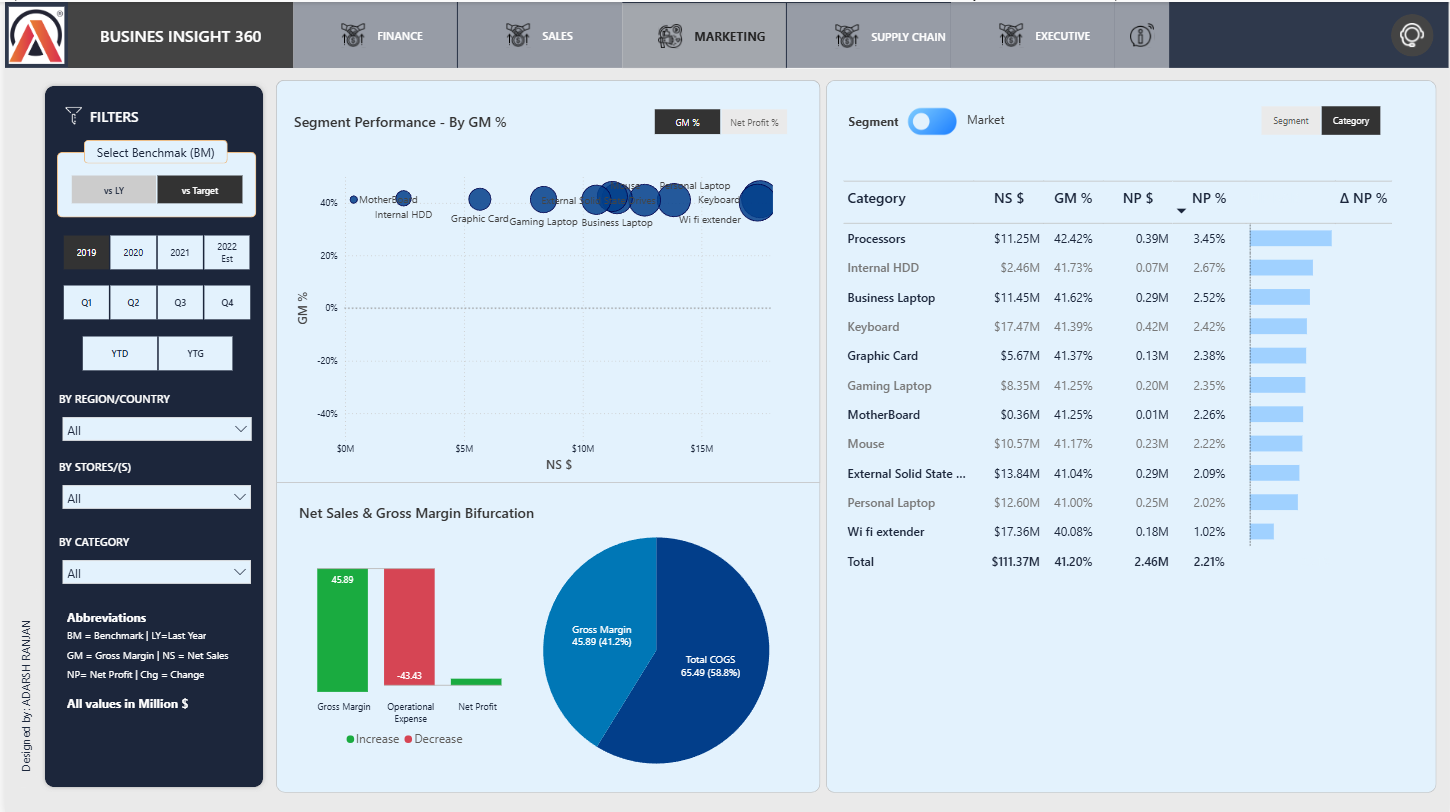

The dashboard page shown, as its layout file describes it:
{"tool":"powerbi","page":{"name":" Marketing View ","canvas":[1920,1080],"ordinal":3},"visuals":[{"type":"shape","box":[360,104.1,724,948],"z":0},{"type":"slicer","title":"Slicer - PARAM MARKT 03","fields":{"Values":["Param MRKT 03: Segment View List.Param MRKT 03: Segment View List"]},"box":[1646,132,208,52],"z":0,"group":"g2"},{"type":"shape","box":[68.9,199.7,265.1,87.1],"z":0,"group":"g4"},{"type":"group","id":"g1","title":"Group 3","box":[82.9,830.3,265.1,74.2],"z":0,"group":"g5"},{"type":"shape","box":[83.2,830.3,263.3,24],"z":0,"group":"g1"},{"type":"shape","box":[1092,104,812,948.3],"z":1000},{"type":"shape","box":[46.6,105.1,303.3,945.7],"z":1000,"group":"g3"},{"type":"slicer","fields":{"Values":["Set BM.Benchmarks"]},"box":[68.2,229.2,266.5,41.4],"z":1000,"group":"g4"},{"type":"shape","box":[82.9,801.8,236.9,33.7],"z":1000,"group":"g5"},{"type":"shape","box":[82.9,856.6,263.6,22.8],"z":1000,"group":"g1"},{"type":"shape","box":[360,104,724,536],"z":2000},{"type":"shape","title":"LBL_Segment Perform","box":[384.9,132.5,396.4,50],"z":2000,"group":"g2"},{"type":"shape","box":[106,184,191,31.4],"z":2000,"group":"g4"},{"type":"slicer","fields":{"Values":["fiscal_year.fy_desc"]},"box":[57,308.9,287.3,48.5],"z":2000,"group":"g3"},{"type":"shape","box":[82.9,881.7,265.1,22.8],"z":2000,"group":"g1"},{"type":"scatterChart","fields":{"Y":["Key Measures.GM %"],"Category":["dim_product.category"],"Size":["Key Measures.NS $"],"X":["Key Measures.NS $"]},"box":[368.8,218.6,688.8,412],"z":3000,"group":"g2"},{"type":"pieChart","fields":{"Category":["P & L Rows.Description"],"Y":["Divide(Key Measures.P & L values, ScopedEval(Key Measures.P & L values, []))"]},"box":[561,660.3,609.8,405.7],"z":3000},{"type":"shape","box":[82.4,916,237.4,32],"z":3000,"group":"g3"},{"type":"pivotTable","fields":{"Rows":["dim_product.category"],"Values":["Key Measures.NS $","Key Measures.GM %","Key Measures.Net Profit $","Key Measures.Net Profit %","Key Measures.Net Profit % BAR","Key Measures.Δ NP %"]},"box":[1110.7,232.6,748.7,814.9],"z":4000,"group":"g2"},{"type":"shape","title":"Lbl All - selected","box":[1118,124,76,68],"z":5000,"group":"g2"},{"type":"slicer","fields":{"Values":["PARAM MRKT 01: Performance Matrix Y Axis.PARAM MRKT 01: Performance Matrix Y Axis"]},"box":[843.2,135.9,216,47.4],"z":5000},{"type":"slicer","fields":{"Values":["dim_date.quarters"]},"box":[57,375.7,287.9,48.5],"z":5000,"group":"g3"},{"type":"shape","title":"Lbl TopN Normal","box":[1279.7,122.5,60.5,67.9],"z":6000,"group":"g2"},{"type":"waterfallChart","fields":{"Category":["P & L Rows.Description"],"Y":["Key Measures.P & L values"]},"box":[361.3,724.8,342.9,275.7],"z":6000},{"type":"slicer","fields":{"Values":["dim_date.ytd_ytg"]},"box":[82.6,442.6,239.4,48.5],"z":7000,"group":"g3"},{"type":"shape","box":[391.4,652.2,330.6,55.3],"z":7000},{"type":"group","id":"g2","title":"Segment View","box":[368.8,122.5,1490.6,925],"z":9000},{"type":"slicer","title":"BY REGION/COUNTRY","fields":{"Values":["dim_market.region","dim_market.market"]},"box":[72.1,517.5,266,91],"z":9000,"group":"g3"},{"type":"slicer","title":"BY CATEGORY","fields":{"Values":["dim_product.segment"]},"box":[72.1,707.3,264.9,91],"z":11000,"group":"g3"},{"type":"group","id":"g3","title":"Group 6","box":[46.6,105.1,303.3,945.7],"z":12000},{"type":"shape","box":[0,0,1920,87.7],"z":13000},{"type":"slicer","title":"BY STORES/(S)","fields":{"Values":["dim_customer.customer"]},"box":[72.1,607.4,264.9,99.9],"z":13000,"group":"g3"},{"type":"actionButton","box":[602.3,0,218.6,88],"z":14000},{"type":"actionButton","box":[820.6,1.4,218.4,87.7],"z":15000},{"type":"shape","box":[113.4,125.2,70.9,52.6],"z":15000,"group":"g3"},{"type":"actionButton","box":[1040.1,1.3,218.1,87.8],"z":16000},{"type":"actionButton","box":[1258.2,0,218.1,87.8],"z":17000},{"type":"group","id":"g4","title":"Group 1","box":[68.2,184,266.5,102.7],"z":17000,"group":"g3"},{"type":"shape","box":[83.2,0,300,87.6],"z":18000},{"type":"actionButton","box":[383.7,0,218.4,87.7],"z":19000},{"type":"image","box":[71.3,131.8,39.4,39.5],"z":19000,"group":"g3"},{"type":"actionButton","box":[1476.4,0,72.4,88.2],"z":20000},{"type":"actionButton","title":"AB Signature","box":[8.6,768.9,34.5,275.9],"z":21000},{"type":"actionButton","title":"Support Button","box":[1844,16,56.6,56.6],"z":22000},{"type":"image","box":[0,1.3,83.8,86.5],"z":23000},{"type":"image","box":[1193.9,118.1,78.2,81.2],"z":24000},{"type":"group","id":"g5","title":"Group 5","box":[82.9,801.8,265.1,102.7],"z":37002,"group":"g3"}]}

Visuals, with their boxes in screenshot pixels (x1, y1, x2, y2), scaled from the page's 1920x1080 canvas onto the 1450x812 screenshot:
shape: detection(272, 78, 819, 791)
"Slicer - PARAM MARKT 03" slicer: detection(1243, 99, 1400, 138)
shape: detection(52, 150, 252, 216)
"Group 3" group: detection(63, 624, 263, 680)
shape: detection(63, 624, 262, 642)
shape: detection(825, 78, 1438, 791)
shape: detection(35, 79, 264, 790)
slicer - Set BM.Benchmarks: detection(52, 172, 253, 203)
shape: detection(63, 603, 242, 628)
shape: detection(63, 644, 262, 661)
shape: detection(272, 78, 819, 481)
"LBL_Segment Perform" shape: detection(291, 100, 590, 137)
shape: detection(80, 138, 224, 162)
slicer - fiscal_year.fy_desc: detection(43, 232, 260, 269)
shape: detection(63, 663, 263, 680)
scatterChart - Key Measures.GM % x dim_product.category: detection(279, 164, 799, 474)
pieChart - P & L Rows.Description x Divide(Key Measures.P & L values, ScopedEval(Key Measures.P & L values, [])): detection(424, 496, 884, 801)
shape: detection(62, 689, 242, 713)
pivotTable - dim_product.category x Key Measures.NS $: detection(839, 175, 1404, 788)
"Lbl All - selected" shape: detection(844, 93, 902, 144)
slicer - PARAM MRKT 01: Performance Matrix Y Axis.PARAM MRKT 01: Performance Matrix Y Axis: detection(637, 102, 800, 138)
slicer - dim_date.quarters: detection(43, 282, 260, 319)
"Lbl TopN Normal" shape: detection(966, 92, 1012, 143)
waterfallChart - P & L Rows.Description x Key Measures.P & L values: detection(273, 545, 532, 752)
slicer - dim_date.ytd_ytg: detection(62, 333, 243, 369)
shape: detection(296, 490, 545, 532)
"Segment View" group: detection(279, 92, 1404, 788)
"BY REGION/COUNTRY" slicer: detection(54, 389, 255, 458)
"BY CATEGORY" slicer: detection(54, 532, 255, 600)
"Group 6" group: detection(35, 79, 264, 790)
shape: detection(0, 0, 1449, 66)
"BY STORES/(S)" slicer: detection(54, 457, 255, 532)
actionButton: detection(455, 0, 620, 66)
actionButton: detection(620, 1, 785, 67)
shape: detection(86, 94, 139, 134)
actionButton: detection(785, 1, 950, 67)
actionButton: detection(950, 0, 1115, 66)
"Group 1" group: detection(52, 138, 253, 216)
shape: detection(63, 0, 289, 66)
actionButton: detection(290, 0, 455, 66)
image: detection(54, 99, 84, 129)
actionButton: detection(1115, 0, 1170, 66)
"AB Signature" actionButton: detection(6, 578, 33, 786)
"Support Button" actionButton: detection(1393, 12, 1435, 55)
image: detection(0, 1, 63, 66)
image: detection(902, 89, 961, 150)
"Group 5" group: detection(63, 603, 263, 680)
